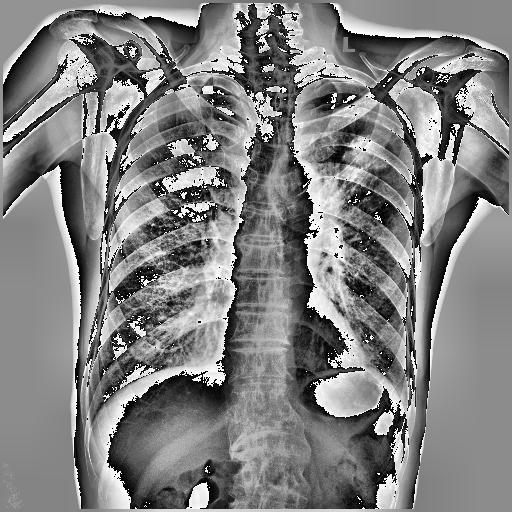0- Aortic enlargement: (272, 155, 323, 224), (266, 158, 323, 216), (273, 158, 323, 222)
11- Pleural thickening: (160, 74, 214, 90), (326, 75, 366, 86)
13- Pulmonary fibrosis: (336, 109, 400, 194)
4- Consolidation: (336, 109, 400, 194), (340, 134, 390, 180)
7- Lung Opacity: (342, 134, 392, 172)
8- Nodule-Mass: (340, 134, 390, 180)
